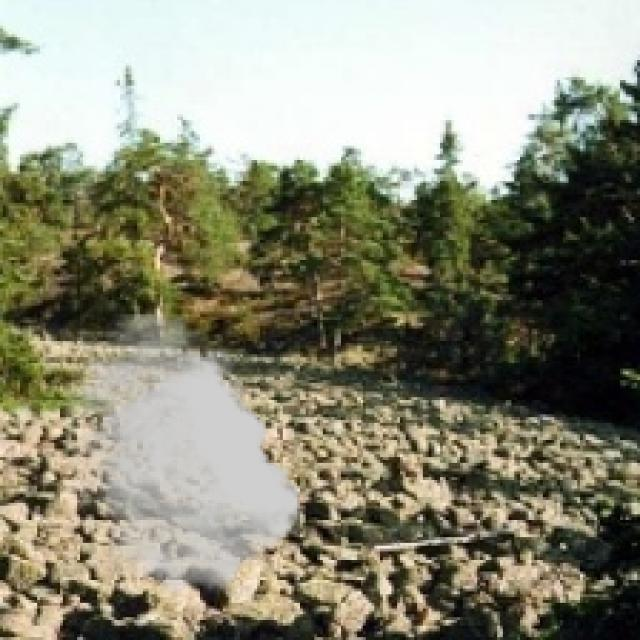Smoke: (66, 314, 300, 594)
